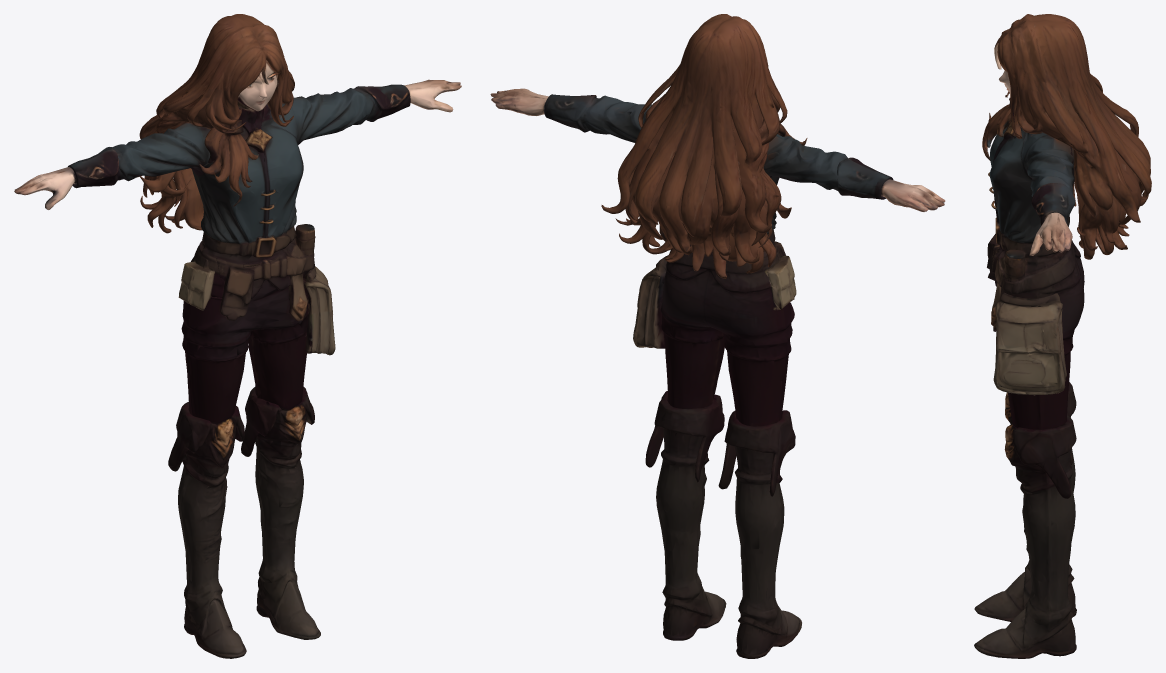
The model's file is ong-studio.glb.
3 renders of one model, left to right at view 1: azimuth 30°, elevation 25°; view 2: azimuth 150°, elevation 25°; view 3: azimuth 270°, elevation 25°, orthographic.
Parts seen in each view (by area): view 1: part_9, part_10, part_11, part_8, part_7, part_1, part_3, part_6, part_0, part_2, part_4, part_5; view 2: part_10, part_9, part_11, part_8, part_1, part_6, part_2, part_4, part_0; view 3: part_10, part_9, part_8, part_1, part_11, part_4, part_7.
Boxes of the visible parts, bbox=[...] form: part_9: bbox=[112, 84, 410, 424]; part_10: bbox=[136, 14, 294, 233]; part_11: bbox=[168, 401, 246, 658]; part_8: bbox=[241, 386, 320, 639]; part_7: bbox=[199, 118, 272, 206]; part_1: bbox=[303, 266, 335, 355]; part_3: bbox=[216, 258, 261, 320]; part_6: bbox=[68, 147, 122, 188]; part_0: bbox=[178, 259, 222, 310]; part_2: bbox=[14, 167, 76, 209]; part_4: bbox=[404, 79, 461, 112]; part_5: bbox=[237, 60, 278, 111]; part_10: bbox=[601, 14, 791, 278]; part_9: bbox=[544, 94, 847, 426]; part_11: bbox=[718, 410, 801, 658]; part_8: bbox=[645, 391, 726, 640]; part_1: bbox=[633, 255, 667, 348]; part_6: bbox=[837, 157, 893, 199]; part_2: bbox=[881, 179, 945, 211]; part_4: bbox=[490, 88, 548, 115]; part_0: bbox=[767, 252, 796, 309]; part_10: bbox=[994, 14, 1151, 259]; part_9: bbox=[988, 126, 1084, 429]; part_8: bbox=[974, 415, 1076, 658]; part_1: bbox=[993, 292, 1066, 395]; part_11: bbox=[974, 382, 1076, 621]; part_4: bbox=[1029, 212, 1072, 255]; part_7: bbox=[982, 101, 1015, 160].
Size of the model in its own units: 0.8897 by 1.16 by 0.3036.
1 material, 1 textured.
